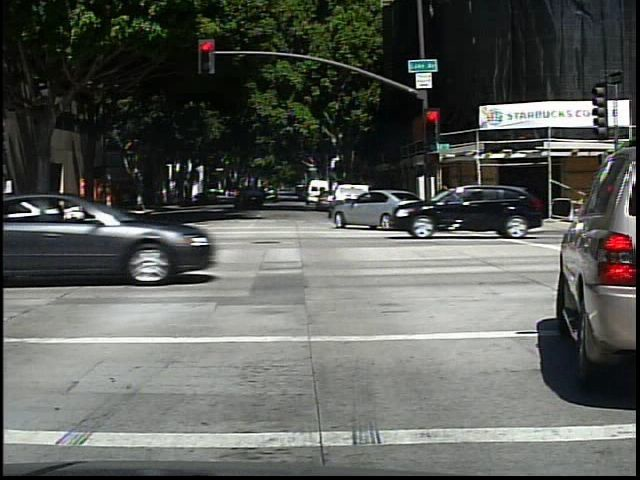person: (94, 186, 110, 220)
